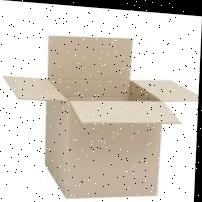cube: (44, 75, 164, 202)
